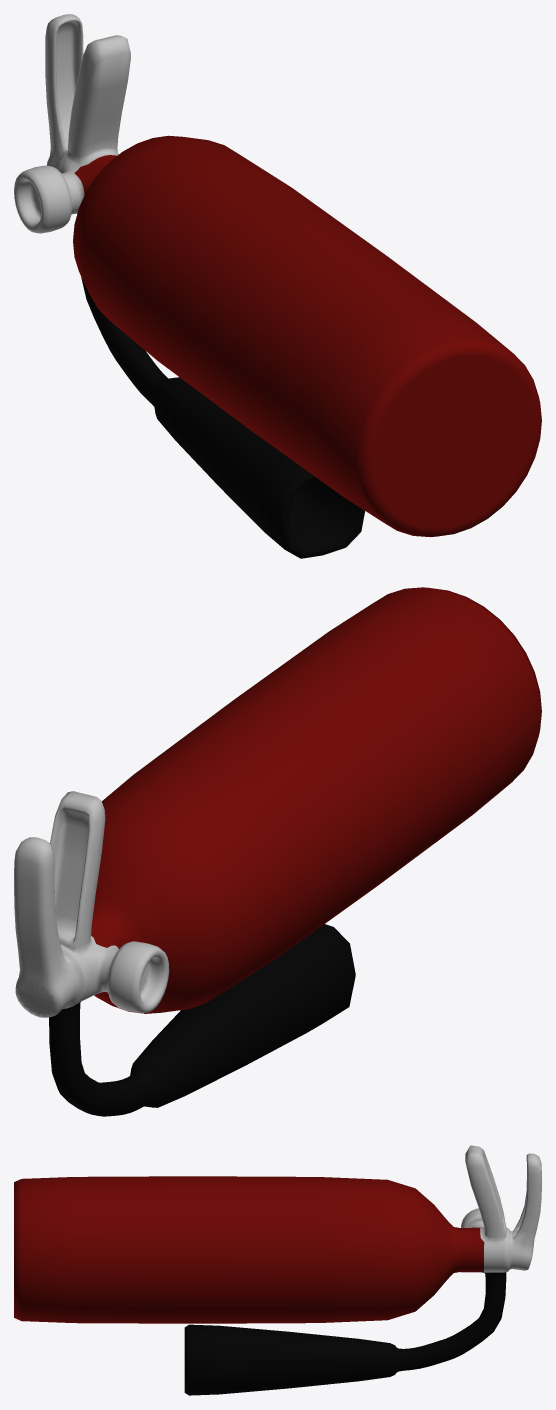
File: Extinguisher.fbx
3 views of the same model, one above another, from view 1: azimuth 30°, elevation 25°; view 2: azimuth 150°, elevation 25°; view 3: azimuth 270°, elevation 25° (orthographic). The views are drawn at different scales.
Visible parts, largest first — view 1: Extinguisher; view 2: Extinguisher; view 3: Extinguisher.
Boxes of the visible parts, left/top/right/bottom form: Extinguisher: left=14, top=14, right=541, bottom=558; Extinguisher: left=14, top=587, right=541, bottom=1116; Extinguisher: left=14, top=1145, right=541, bottom=1395.
Bounding box in the file's own units: 123 × 221 × 440.
